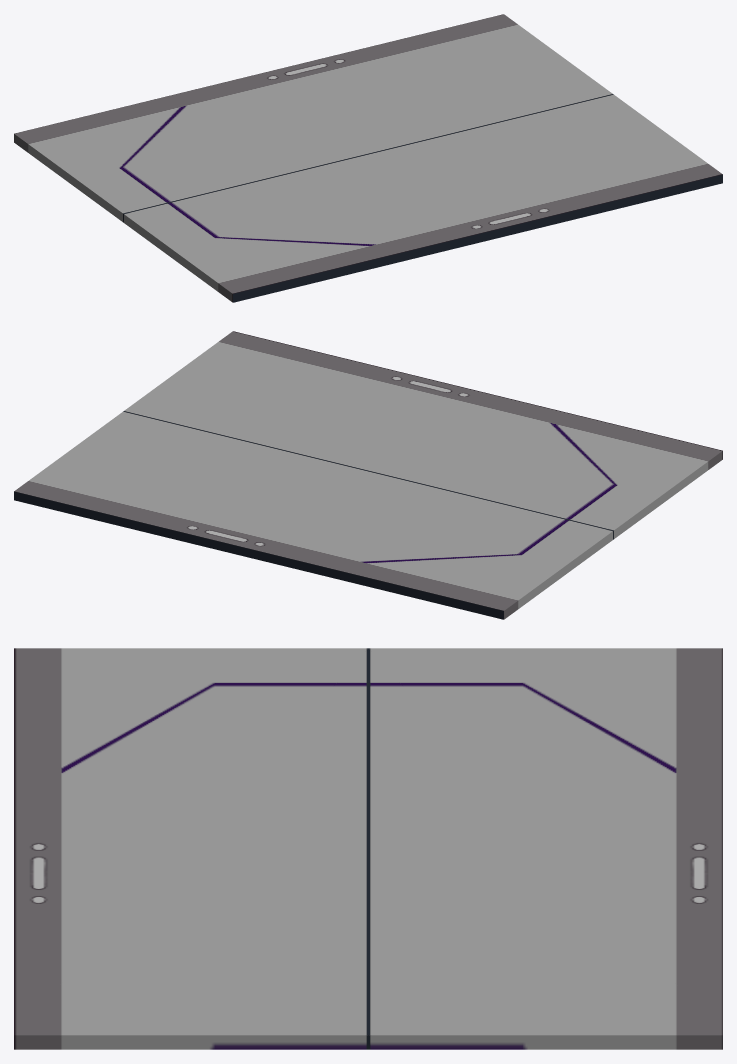
Rendered from KF_SM_LSideW008.fbx.
3 views of the same model, one above another, from view 1: azimuth 30°, elevation 25°; view 2: azimuth 150°, elevation 25°; view 3: azimuth 270°, elevation 25° (orthographic). The views are drawn at different scales.
Parts seen in each view (by area): view 1: KF_SM_LSideW008; view 2: KF_SM_LSideW008; view 3: KF_SM_LSideW008.
Boxes of the visible parts, left/top/right/bottom form: KF_SM_LSideW008: left=14, top=14, right=722, bottom=302; KF_SM_LSideW008: left=14, top=331, right=722, bottom=619; KF_SM_LSideW008: left=14, top=648, right=722, bottom=1049.
Size of the model in its own units: 2894 by 50 by 2240.
1 material, 1 textured.
